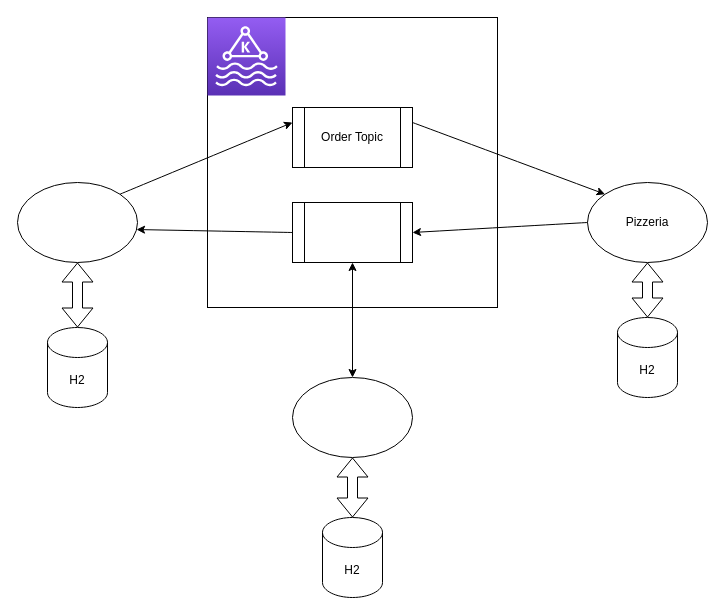
This 725x615 diagram has some shape labels left out. The centre of each missing label's shape, as x and y in pixels:
"Client service" belongs at (x=77, y=222).
"Courier" belongs at (x=352, y=417).
"Notification" belongs at (x=352, y=232).
